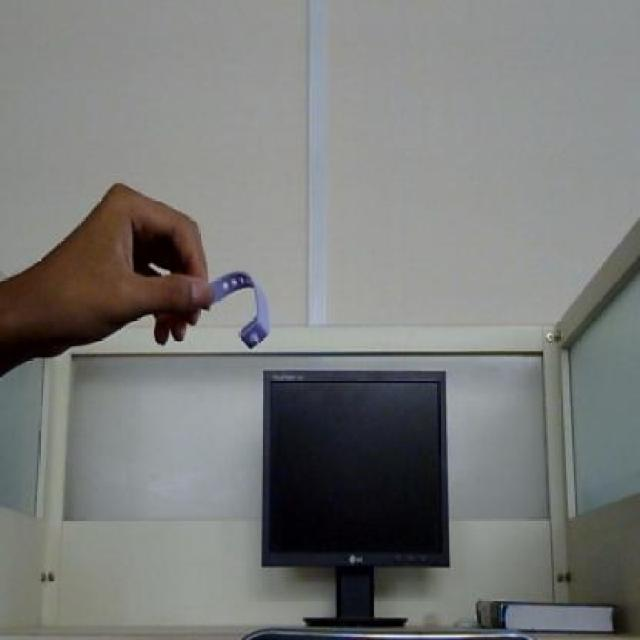Plastic: (202, 267, 276, 358)
